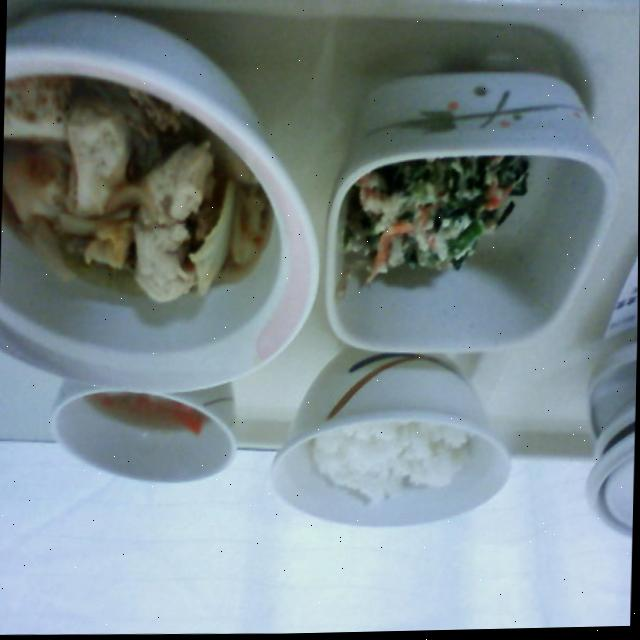米饭主食: (252, 413, 501, 546)
